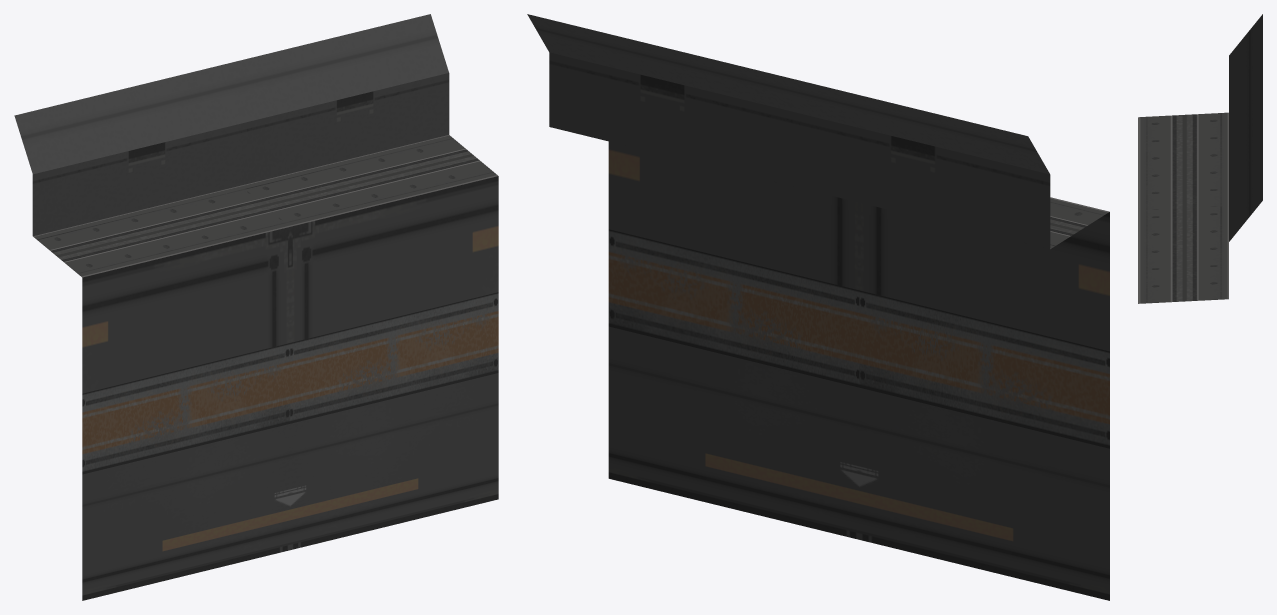
Rendered from WallLv2°Room2.fbx.
3 renders of one model, left to right at view 1: azimuth 30°, elevation 25°; view 2: azimuth 150°, elevation 25°; view 3: azimuth 270°, elevation 25°, orthographic. The views are drawn at different scales.
Parts seen in each view (by area): view 1: WallLv2Room2; view 2: WallLv2Room2; view 3: WallLv2Room2.
Part boxes in pixels (x1,y1,x2,y2): WallLv2Room2: [14, 14, 498, 600]; WallLv2Room2: [527, 14, 1109, 600]; WallLv2Room2: [1138, 14, 1262, 303].
Bounding box in the file's own units: 200 × 200 × 56.46.
